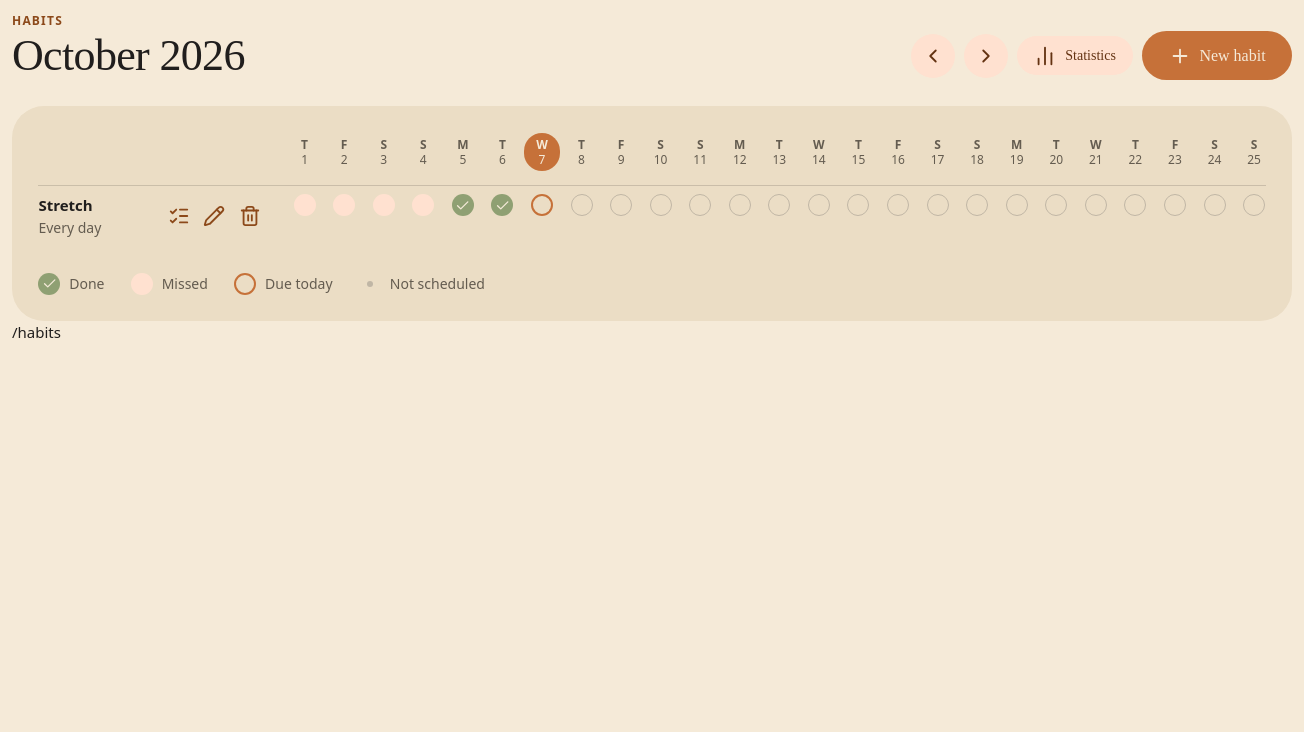
Test: ticking a day › puts a day back and says so when the server refuses it, and keeps the ticks made after it
The width and height of the screenshot is (1304, 732).
Expected: the table is shown, [38,133,1266,246]
Click the button named "Stretch, Wed 7 Oct".
click(542, 205)  # box [531,194,553,216]
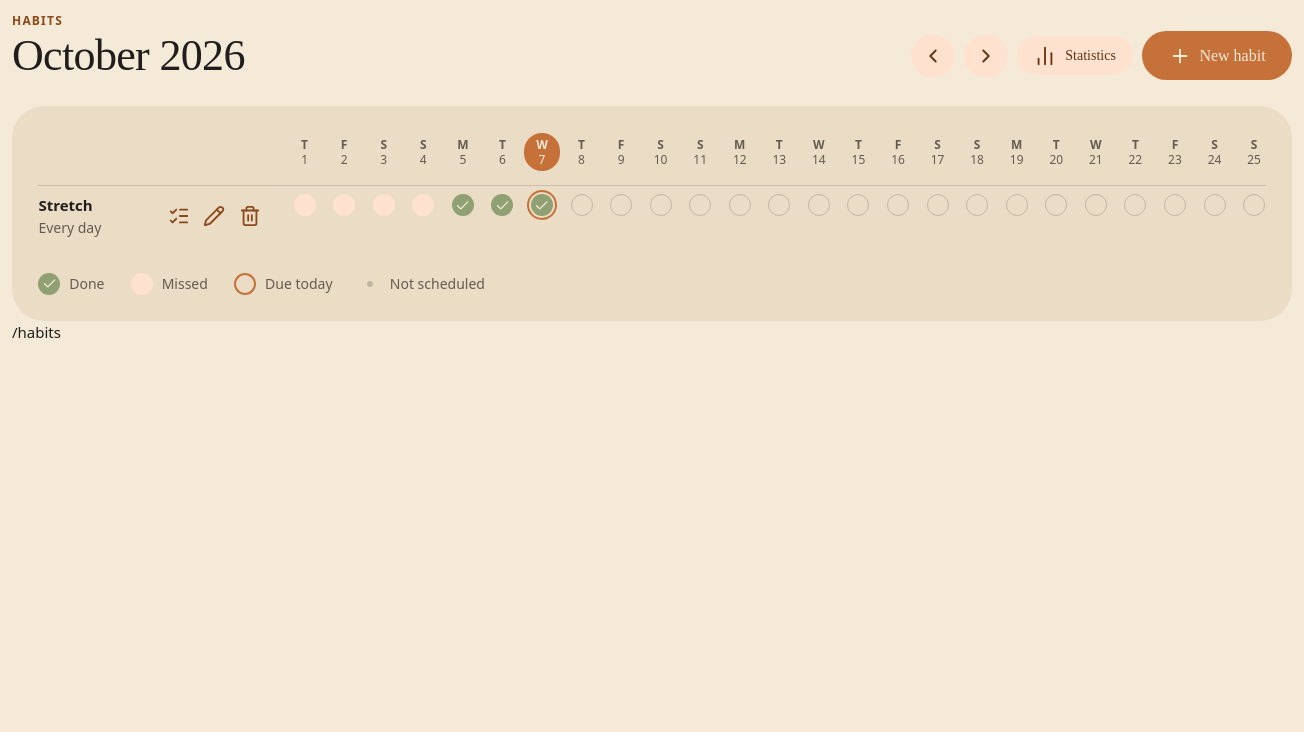
Click the button named "Stretch, Tue 6 Oct".
click(502, 205)  # box [491,194,513,216]
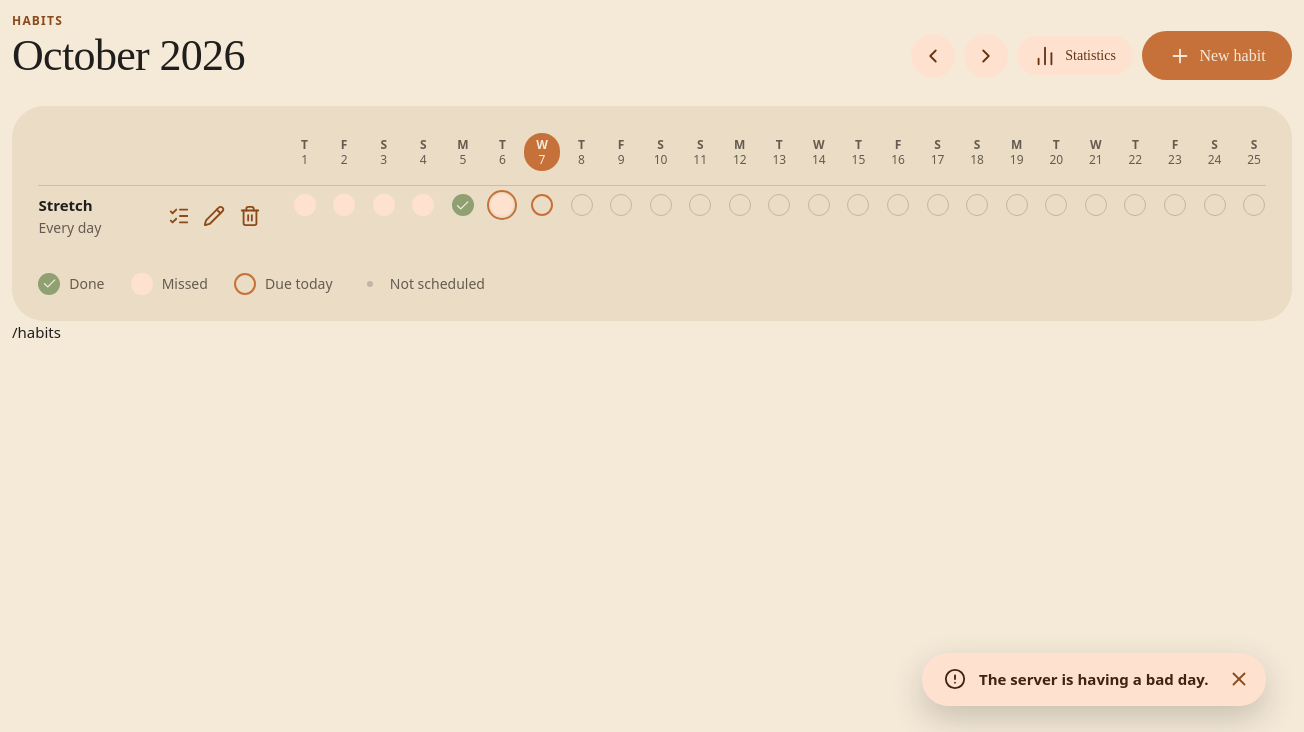
Result: the message reads "The server is having a bad day." at [979,669,1208,689]
